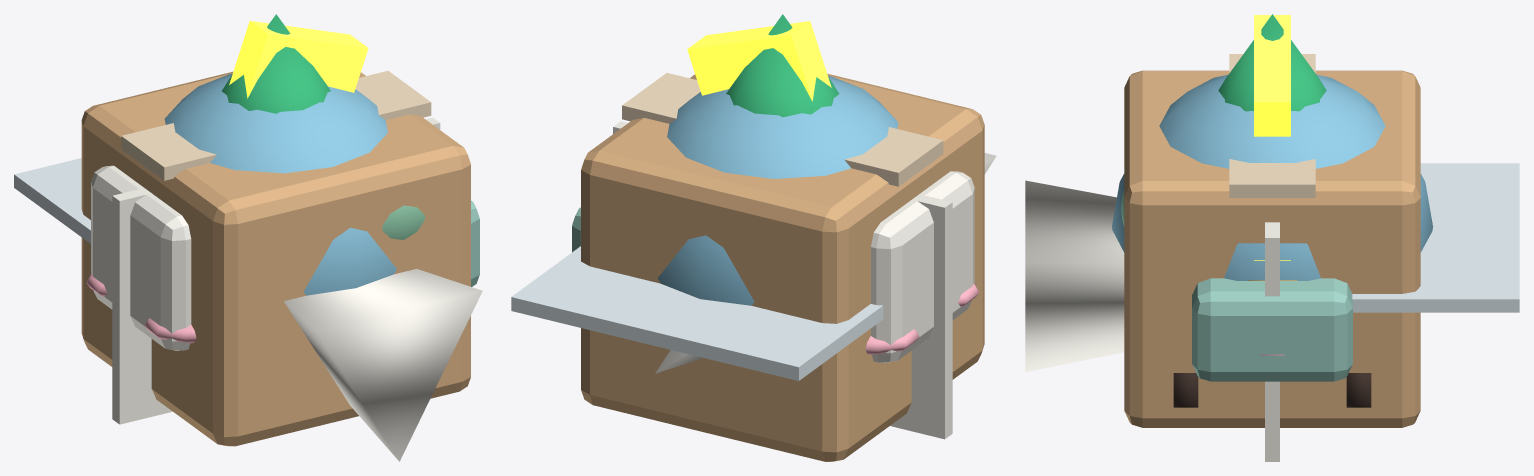
3 views of the same model, side by side, from view 1: azimuth 30°, elevation 25°; view 2: azimuth 150°, elevation 25°; view 3: azimuth 270°, elevation 25° (orthographic). The views are drawn at different scales.
Parts seen in each view (by area): view 1: Cube.001, Cone, Sphere.006, Cube.003, Cube.007, Cube.005, Cube.002, Cone.002, Cube, Sphere.007, Cube.004, Sphere.003; view 2: Cube.001, Cube, Sphere.006, Cube.003, Cube.007, Cube.005, Cube.002, Cone.002, Sphere.002, Cone; view 3: Cube.001, Cone, Sphere.006, Cube.004, Cube, Cube.005, Cube.002, Cone.002, Cube.007, Cylinder.002, Cylinder.003.
Boxes of the visible parts, x1=… form: Cube.001: x1=81, y1=71, x2=470, y2=446; Cone: x1=284, y1=269, x2=482, y2=461; Sphere.006: x1=164, y1=73, x2=396, y2=295; Cube.003: x1=91, y1=165, x2=191, y2=350; Cube.007: x1=112, y1=117, x2=440, y2=424; Cube.005: x1=229, y1=21, x2=368, y2=98; Cube.002: x1=121, y1=71, x2=431, y2=180; Cone.002: x1=222, y1=14, x2=330, y2=113; Cube: x1=14, y1=158, x2=90, y2=243; Sphere.007: x1=382, y1=205, x2=425, y2=239; Cube.004: x1=471, y1=200, x2=479, y2=286; Sphere.003: x1=144, y1=318, x2=196, y2=343; Cube.001: x1=581, y1=73, x2=984, y2=461; Cube: x1=511, y1=246, x2=883, y2=380; Sphere.006: x1=657, y1=76, x2=898, y2=305; Cube.003: x1=871, y1=171, x2=974, y2=362; Cube.007: x1=613, y1=121, x2=952, y2=439; Cube.005: x1=687, y1=21, x2=831, y2=101; Cube.002: x1=622, y1=73, x2=943, y2=186; Cone.002: x1=726, y1=14, x2=839, y2=117; Sphere.002: x1=865, y1=329, x2=919, y2=354; Cone: x1=655, y1=153, x2=996, y2=373; Cube.001: x1=1124, y1=70, x2=1420, y2=427; Cone: x1=1025, y1=180, x2=1124, y2=372; Sphere.006: x1=1112, y1=74, x2=1432, y2=280; Cube.004: x1=1192, y1=278, x2=1352, y2=381; Cube: x1=1352, y1=163, x2=1519, y2=312; Cube.005: x1=1254, y1=15, x2=1290, y2=136; Cube.002: x1=1229, y1=54, x2=1315, y2=197; Cone.002: x1=1218, y1=14, x2=1326, y2=111; Cube.007: x1=1265, y1=222, x2=1279, y2=461; Cylinder.002: x1=1173, y1=373, x2=1198, y2=407; Cylinder.003: x1=1346, y1=373, x2=1371, y2=407.
Bounding box in the file's own units: 0.3104 × 0.34 × 0.4.
